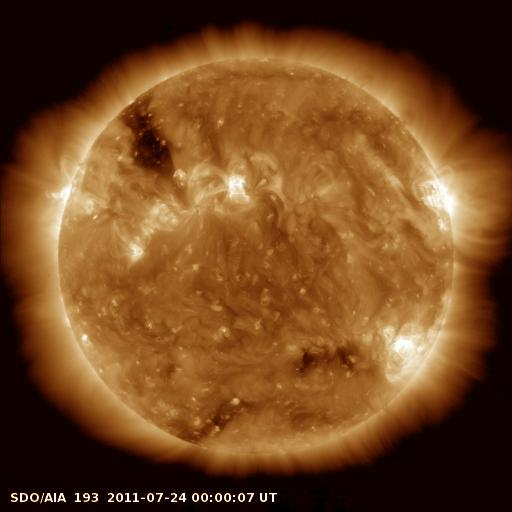coronal_hole: (116, 96, 176, 180)
